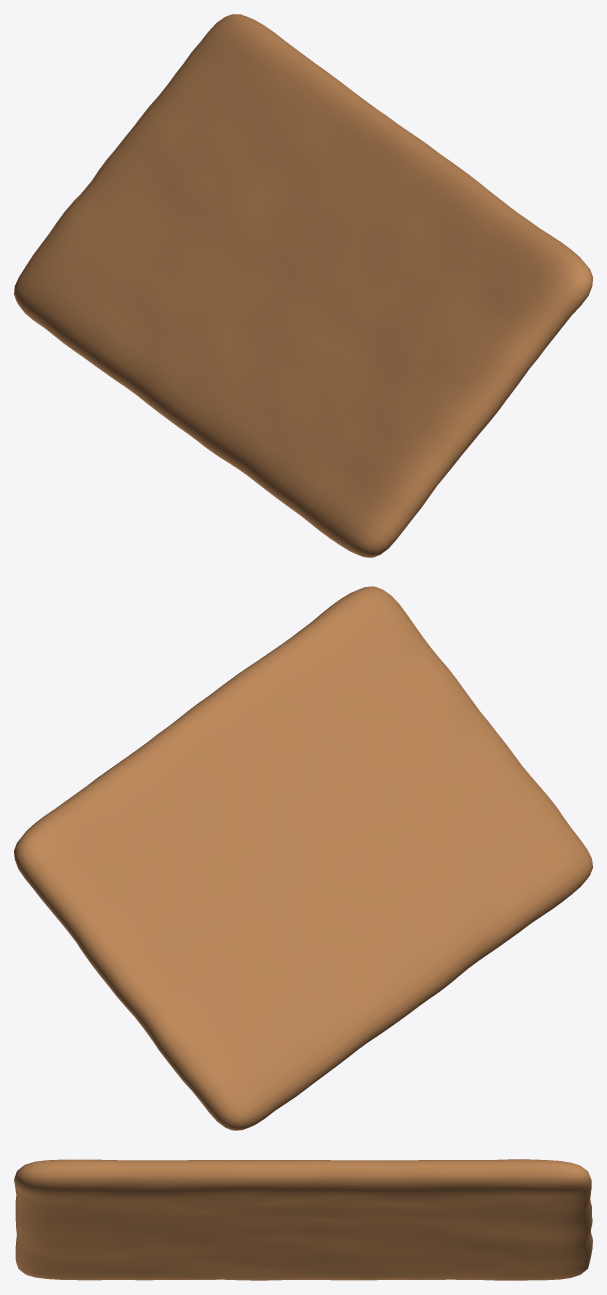
Rendered from Roofandsides.fbx.
The picture shows the model from 3 angles, top to bottom: view 1: azimuth 30°, elevation 25°; view 2: azimuth 150°, elevation 25°; view 3: azimuth 270°, elevation 25°; orthographic projection. The views are drawn at different scales.
Parts seen in each view (by area): view 1: Cube.001; view 2: Cube.001; view 3: Cube.001.
Boxes of the visible parts, x1,y1,x2,y2 form: Cube.001: (14,14,592,557); Cube.001: (14,586,592,1130); Cube.001: (14,1159,592,1280).
Size of the model in its own units: 83.36 by 82.6 by 219.
